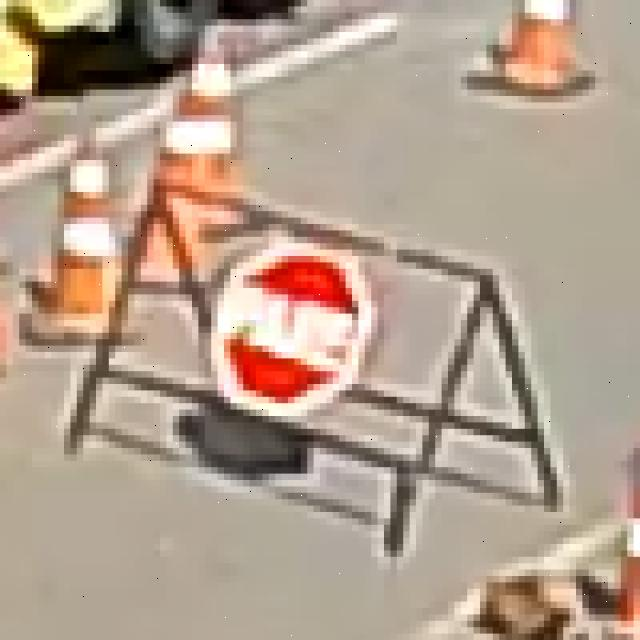small_cone: (160, 26, 237, 224), (58, 154, 122, 339)
stop_sign: (205, 237, 378, 429)
